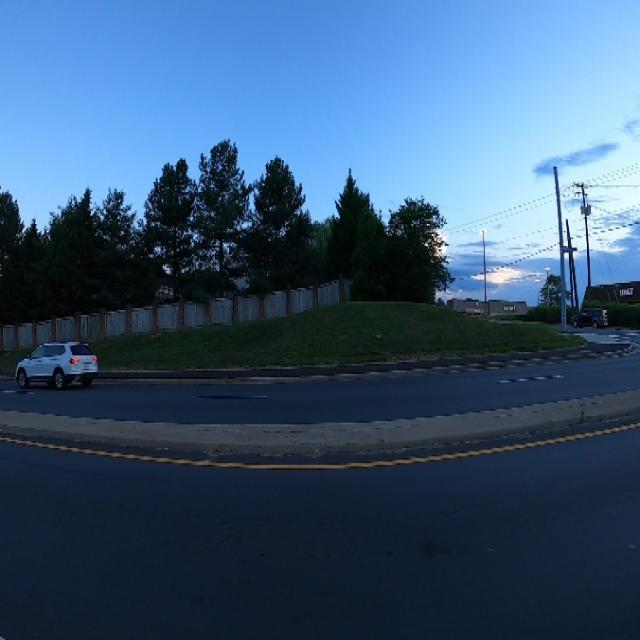car: (9, 327, 106, 392)
